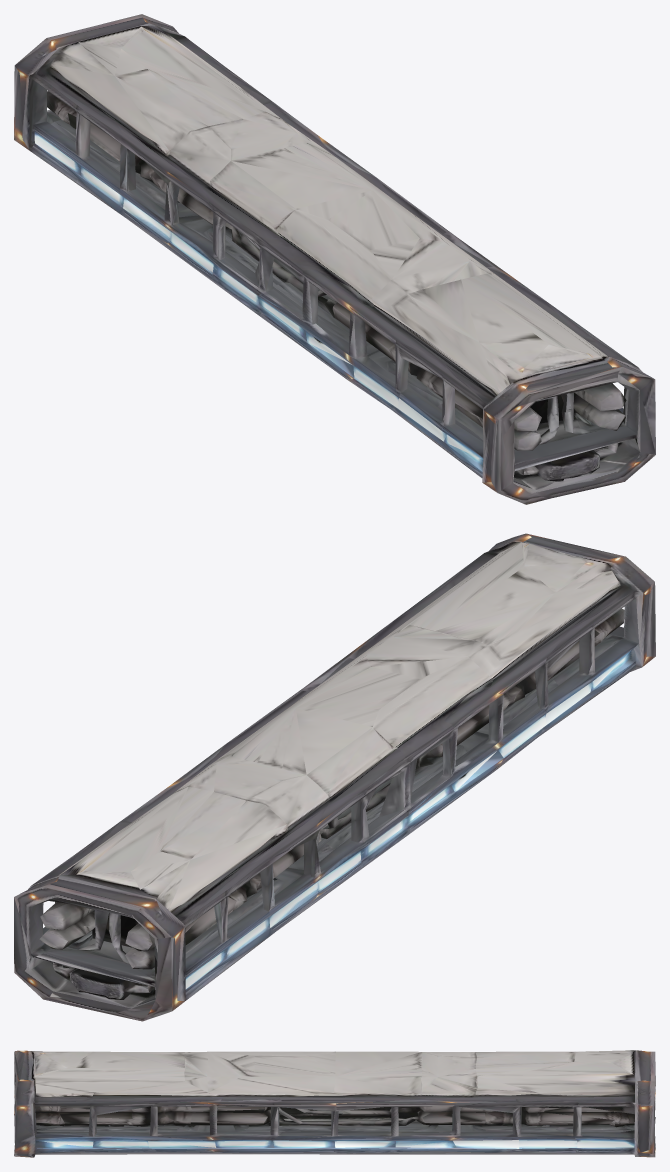
Rendered from ringSegment.glb.
3 renders of one model, top to bottom at view 1: azimuth 30°, elevation 25°; view 2: azimuth 150°, elevation 25°; view 3: azimuth 270°, elevation 25°, orthographic. The views are drawn at different scales.
Parts seen in each view (by area): view 1: ringSegment; view 2: ringSegment; view 3: ringSegment.
Boxes of the visible parts, x1,y1,x2,y2 form: ringSegment: (14, 14, 655, 504); ringSegment: (14, 533, 655, 1021); ringSegment: (14, 1050, 655, 1157).
Bounding box in the file's own units: 20 × 14 × 104.
Materials: 1 (1 with a texture image).
